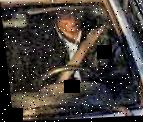seatbelt: (48, 15, 109, 80)
